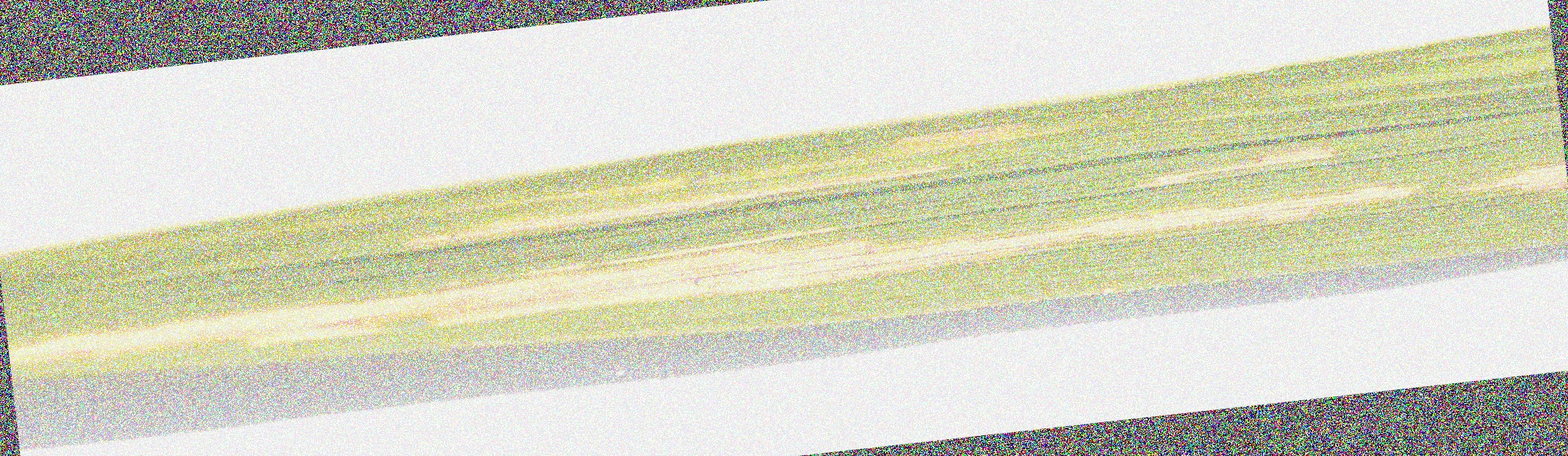Leaf_Blast: (382, 107, 1396, 237), (8, 223, 1568, 302)
